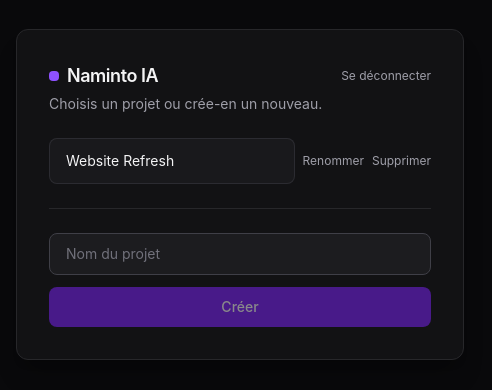
Scenario: ProjectPicker › rename › shows an error alert when renaming fails
expect the button "Website Refresh" is shown: met, box x1=49 y1=138 x2=295 y2=184
Click the button "Renommer" at (333, 160), box x1=303 y1=152 x2=364 y2=168
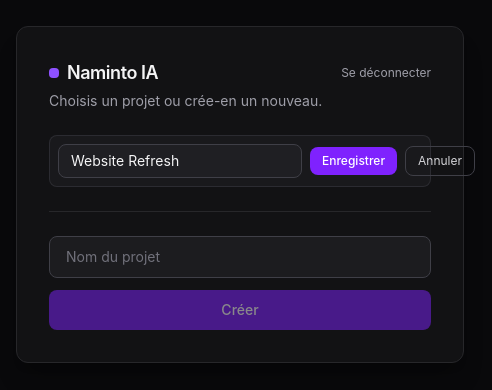
Replace the text in the field showing "Website Refresh" with "New Name" at (180, 160), box x1=58 y1=144 x2=302 y2=178
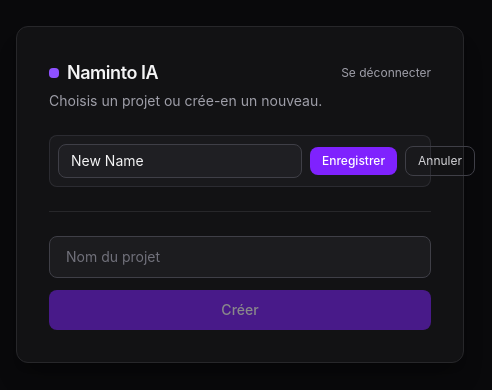
Click the button "Enregistrer" at (354, 160), box x1=310 y1=146 x2=397 y2=174
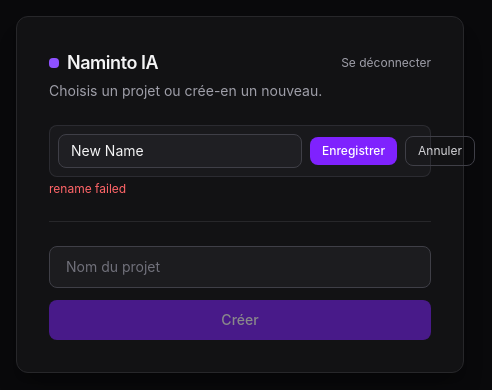
expect the text "rename failed" is shown: met, box x1=49 y1=180 x2=126 y2=196
